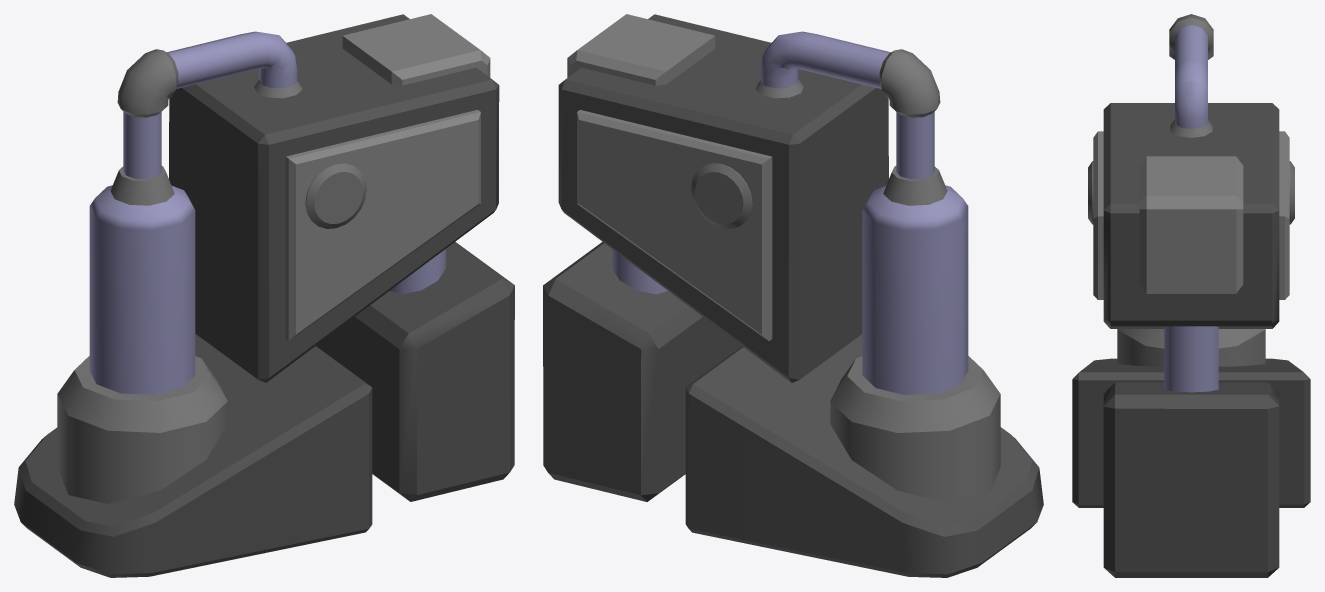
The model's file is Machinerie.fbx.
The picture shows the model from 3 angles, left to right: view 1: azimuth 30°, elevation 25°; view 2: azimuth 150°, elevation 25°; view 3: azimuth 270°, elevation 25°; orthographic projection. The views are drawn at different scales.
Parts seen in each view (by area): view 1: Machinerie; view 2: Machinerie; view 3: Machinerie.
Boxes of the visible parts, box(x1,y1,x2,y2) form: Machinerie: box(14, 14, 514, 577); Machinerie: box(543, 14, 1043, 577); Machinerie: box(1072, 14, 1310, 577).
Size of the model in its own units: 40.92 by 43.4 by 21.89.
